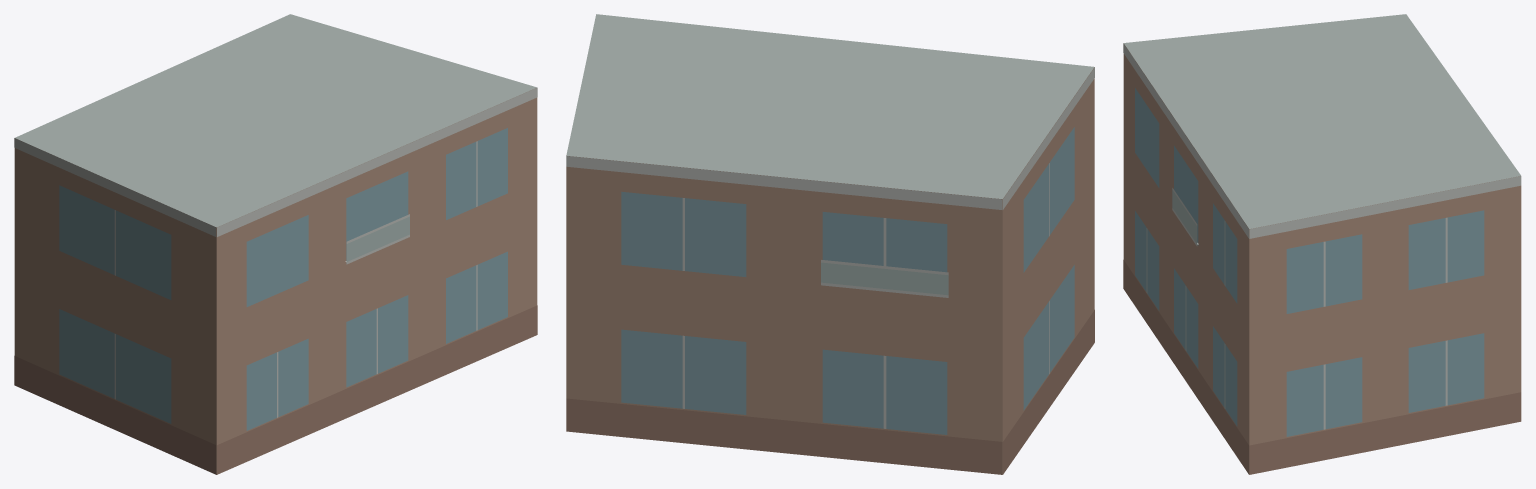
The model's file is survey-upis-32572132.glb.
3 renders of one model, left to right at view 1: azimuth 30°, elevation 25°; view 2: azimuth 150°, elevation 25°; view 3: azimuth 270°, elevation 25°, orthographic. The views are drawn at different scales.
Parts seen in each view (by area): view 1: survey-upis-32572132.tmp; view 2: survey-upis-32572132.tmp; view 3: survey-upis-32572132.tmp.
Part boxes in pixels (x1,y1,x2,y2): survey-upis-32572132.tmp: (14,14,537,474); survey-upis-32572132.tmp: (566,14,1094,474); survey-upis-32572132.tmp: (1123,14,1521,474).
Bounding box in the file's own units: 11.46 × 6.1 × 8.96.
